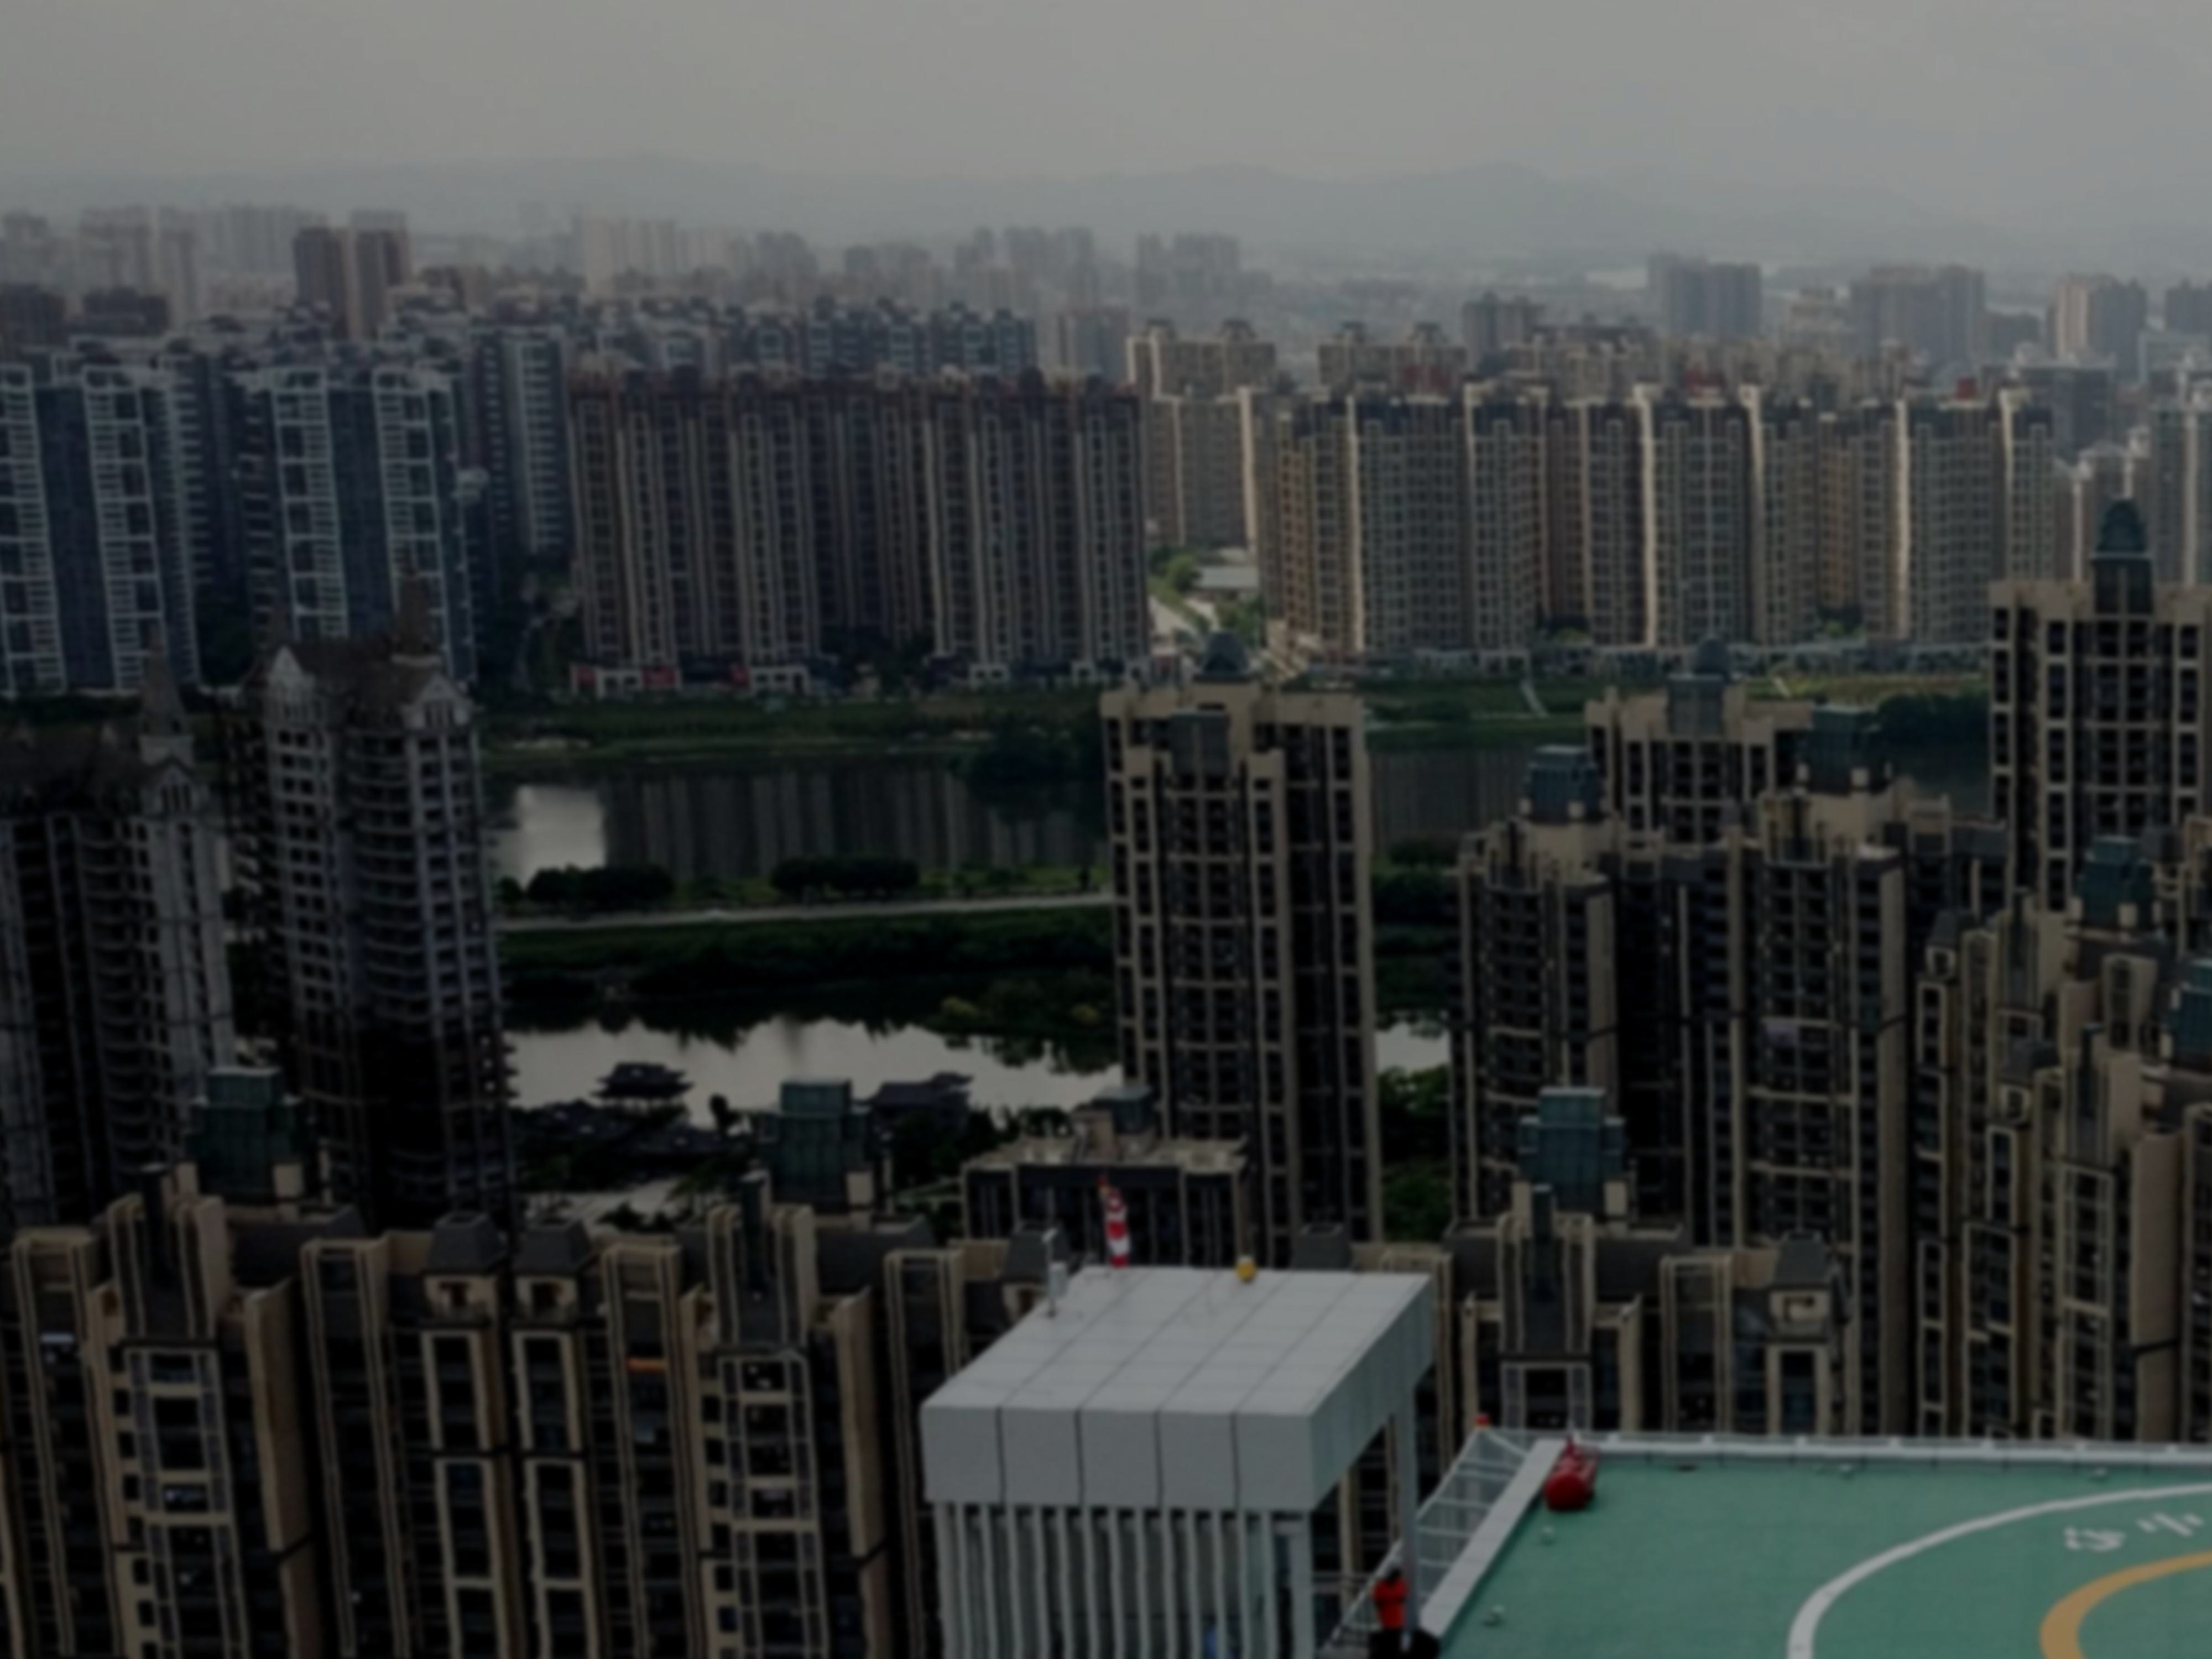Apron: (1989, 1469, 2212, 1659)
